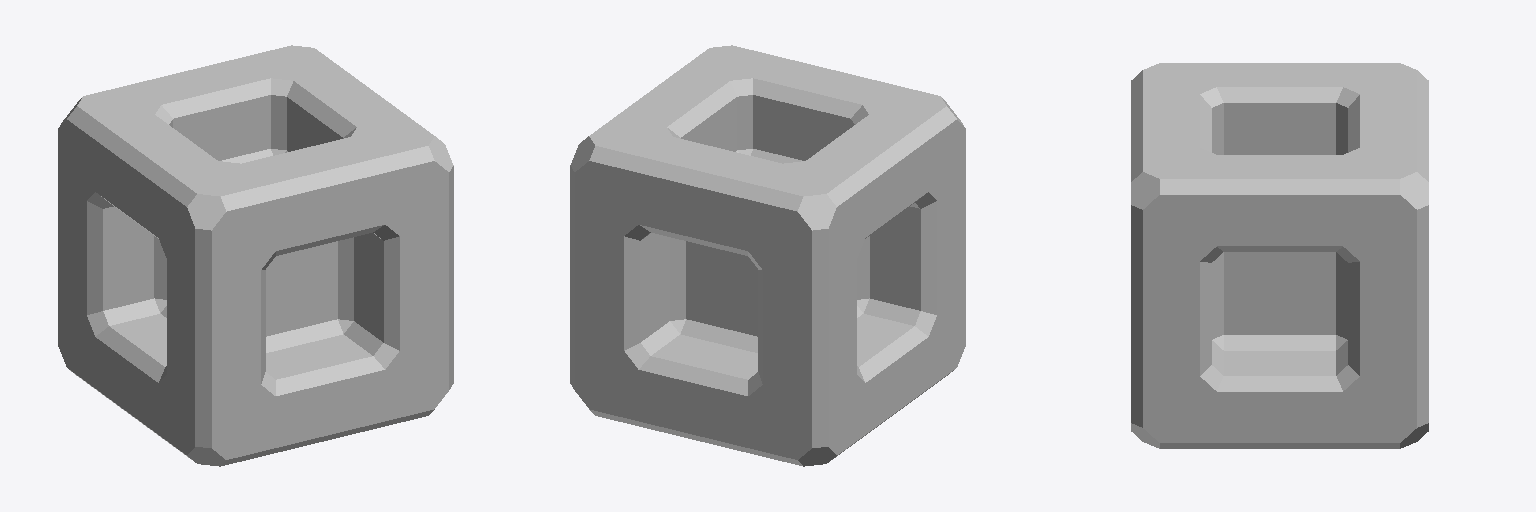
File: concrete_block.obj
3 views of the same model, side by side, from view 1: azimuth 30°, elevation 25°; view 2: azimuth 150°, elevation 25°; view 3: azimuth 270°, elevation 25° (orthographic).
Parts seen in each view (by area): view 1: block; view 2: block; view 3: block.
Part boxes in pixels (x1,y1,x2,y2): block: (58, 45, 453, 466); block: (570, 45, 965, 466); block: (1131, 63, 1428, 448).
Bounding box in the file's own units: 1 × 1 × 1.